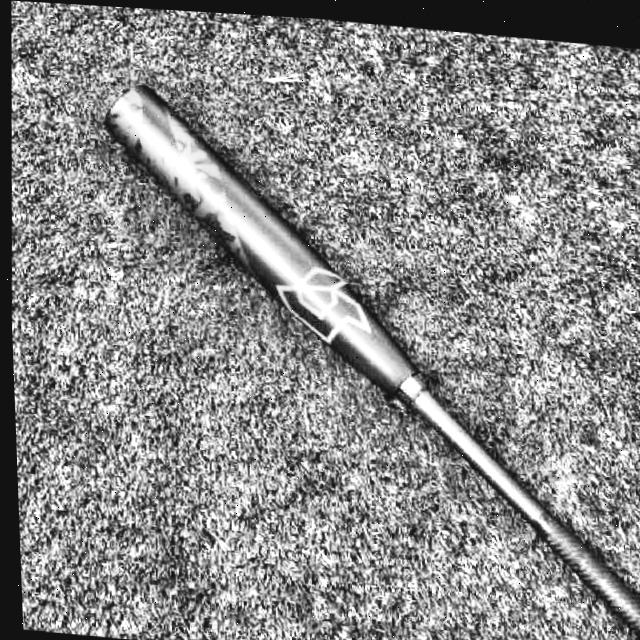tongkat pemukul: (73, 75, 640, 640)
